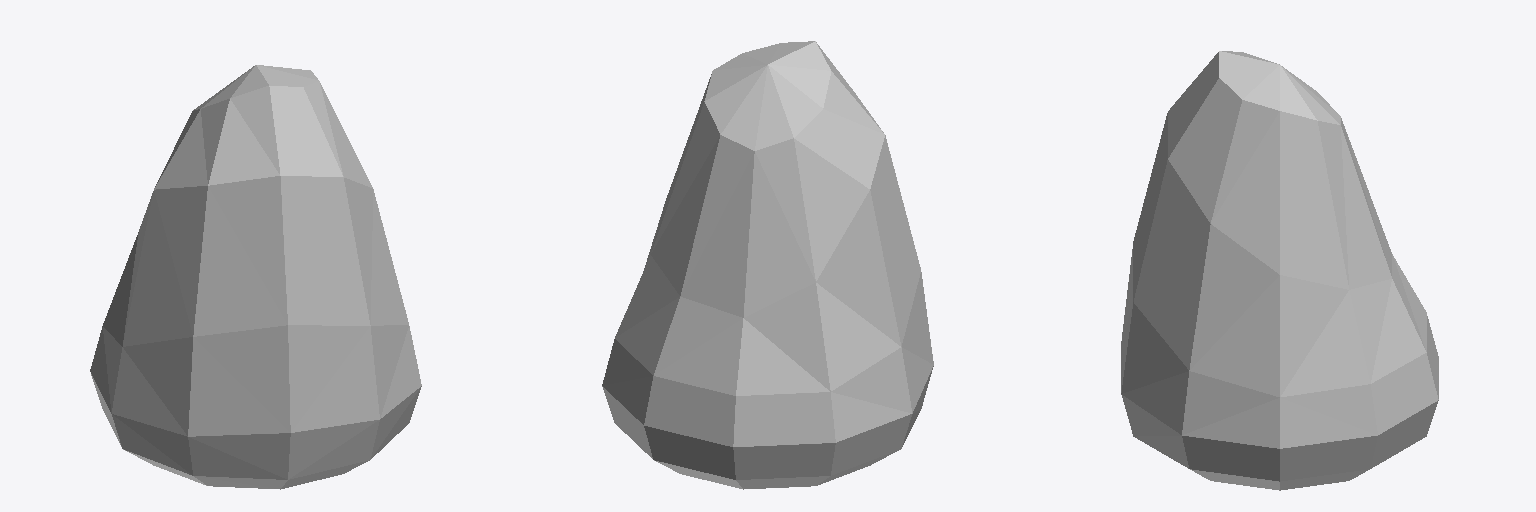
The model's file is Rock1.obj.
The picture shows the model from 3 angles: view 1: azimuth 30°, elevation 25°; view 2: azimuth 150°, elevation 25°; view 3: azimuth 270°, elevation 25°; orthographic projection.
Visible parts, largest first — view 1: Cube_Cube.001; view 2: Cube_Cube.001; view 3: Cube_Cube.001.
Part boxes in pixels (x1,y1,x2,y2): Cube_Cube.001: (90,65,421,489); Cube_Cube.001: (602,41,933,489); Cube_Cube.001: (1121,51,1438,490).
Size of the model in its own units: 2 by 2.6 by 1.9.